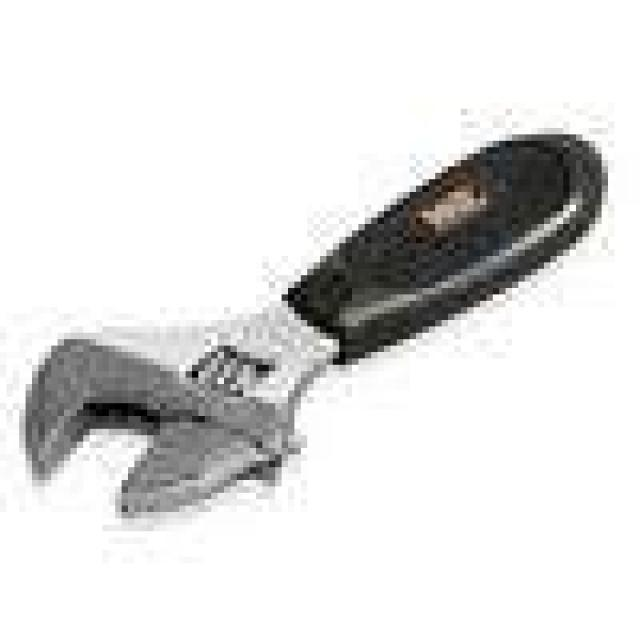wrench: (14, 113, 617, 514)
